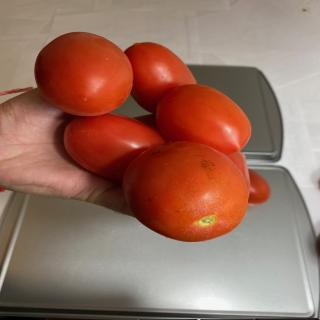Chilli: (33, 31, 270, 242)
Tomato: (122, 140, 250, 242), (34, 31, 134, 117), (63, 112, 166, 181), (155, 84, 252, 154), (124, 42, 197, 114)
